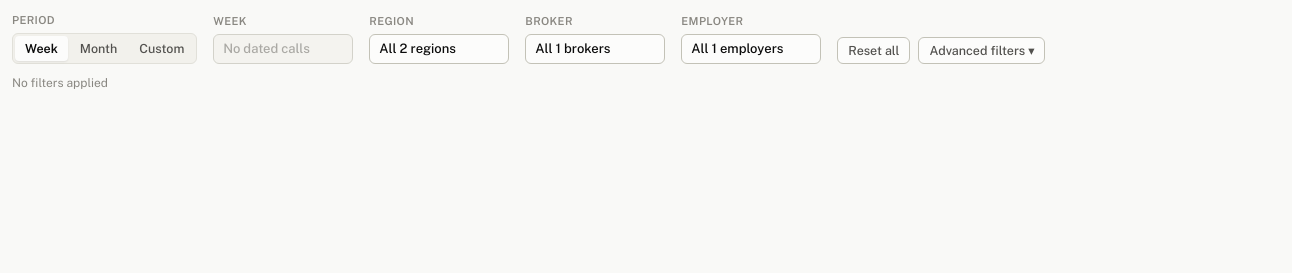
Test: FilterBar › offers a touchpoint in words, and still filters on the reference
Click the button "Advanced filters ▾" at (982, 50), box [918,36,1045,64]
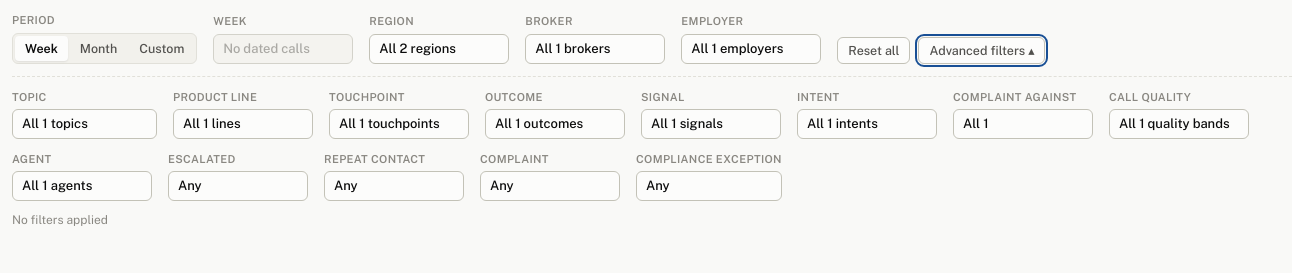
Expected: the dropdown labelled "Touchpoint" is enabled
Select "Enrolment meeting" in the dropdown labelled "Touchpoint" at (399, 124), box [329,109,469,139]
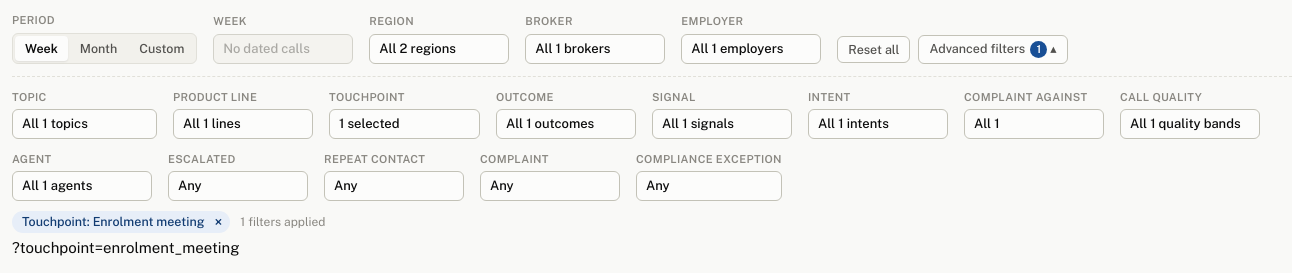
Expected: the text with test id "address" shows "touchpoint=enrolment_meeting", [12,239,240,256]
